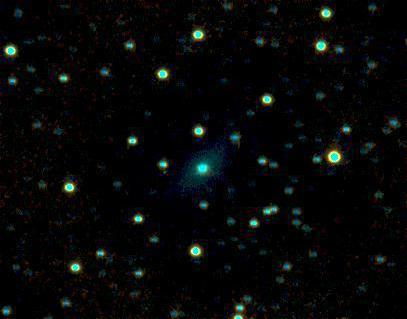star: (148, 155, 178, 185)
